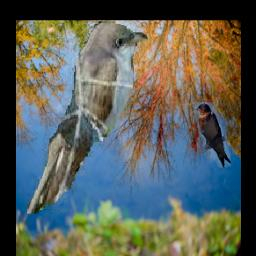Cuckoo: (28, 22, 149, 215)
Swallow: (195, 103, 231, 169)
